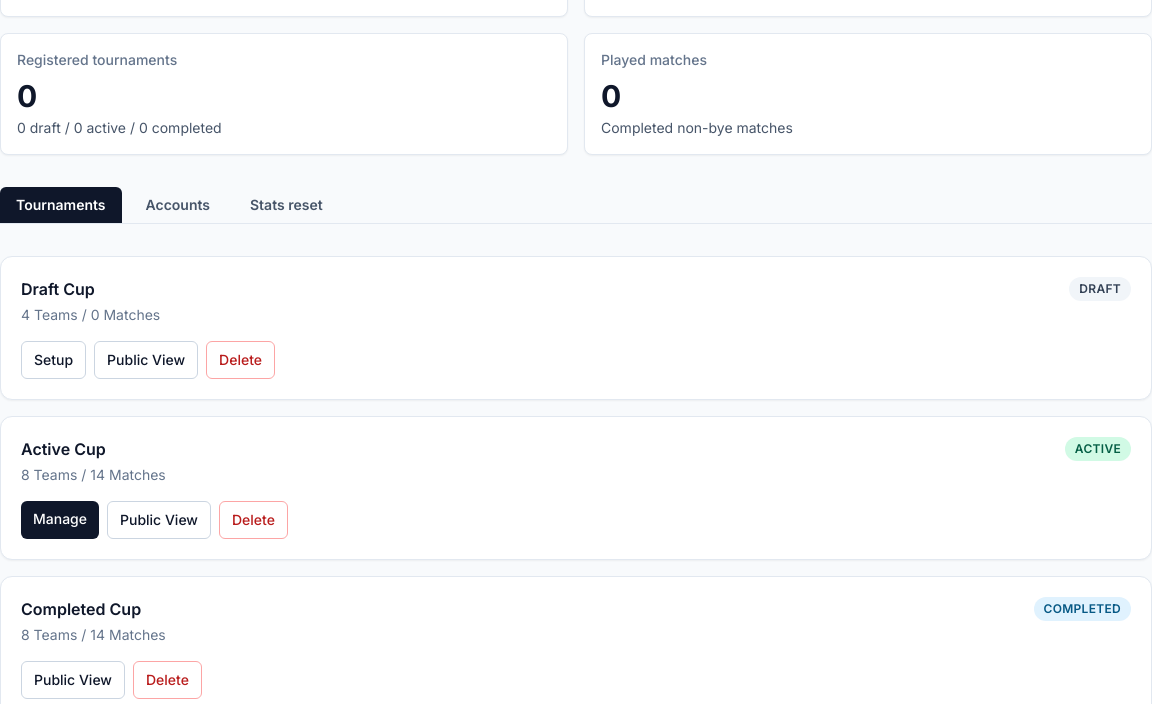
Test case: AdminDashboard › requires the exact tournament name before deleting an active tournament
The width and height of the screenshot is (1152, 704).
(page scrolled)
Click the button with aria-label "Delete Active Cup". click: x=253, y=520
box: [219,501,288,539]
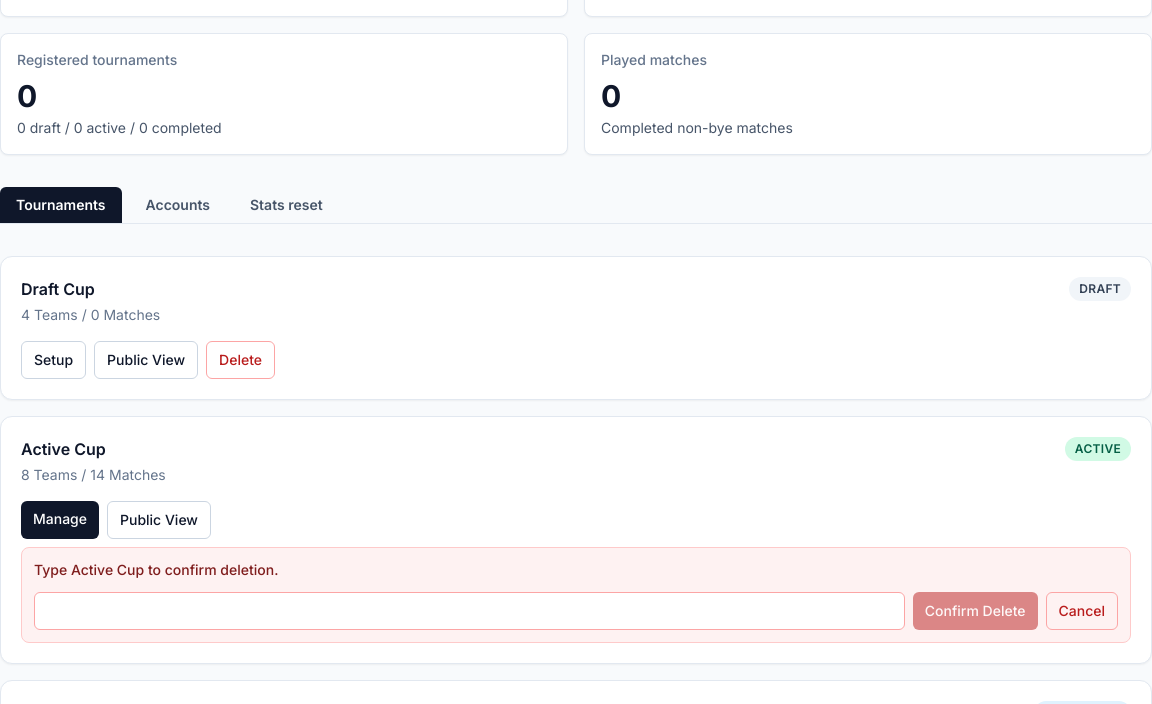
Expected: the text "Type Active Cup to confirm deletion." is shown, [34,561,278,578]
Expected: the button with aria-label "Confirm Delete Active Cup" is disabled, [913,592,1038,630]
Type "Active Cup" into the field named "Type Active Cup to confirm deletion". click: x=469, y=611
box: [34,592,905,630]
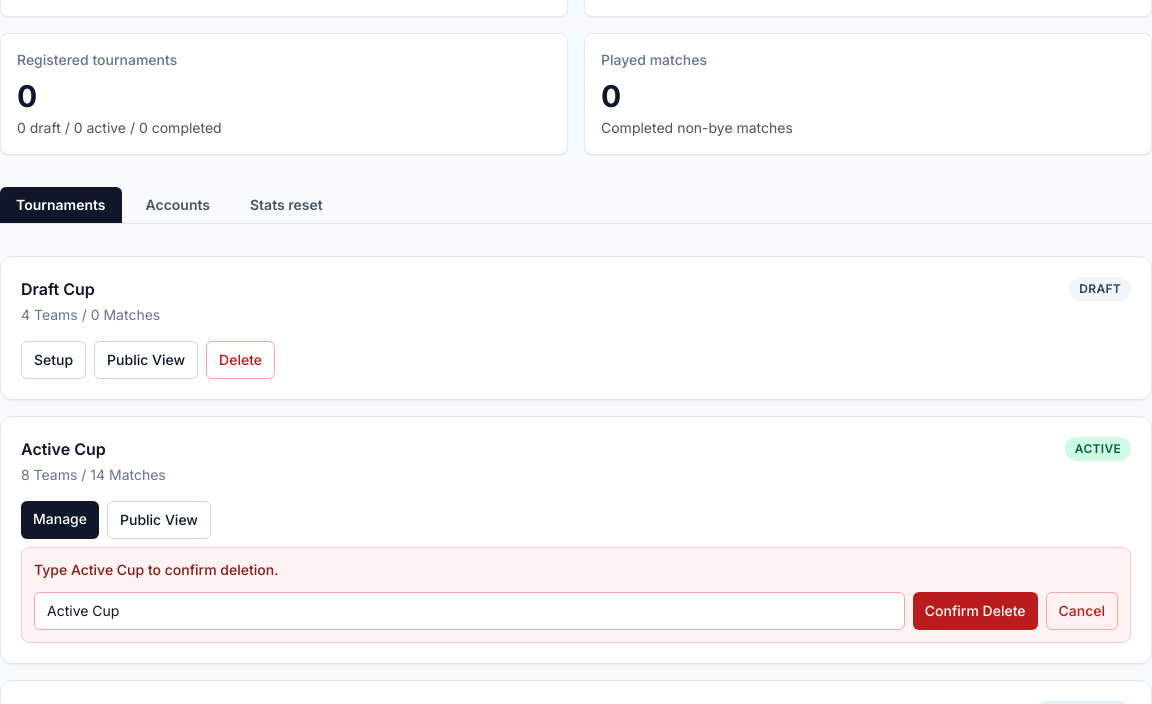
Click the button with aria-label "Confirm Delete Active Cup". click: x=975, y=611
box: [913,592,1038,630]
(page scrolled)
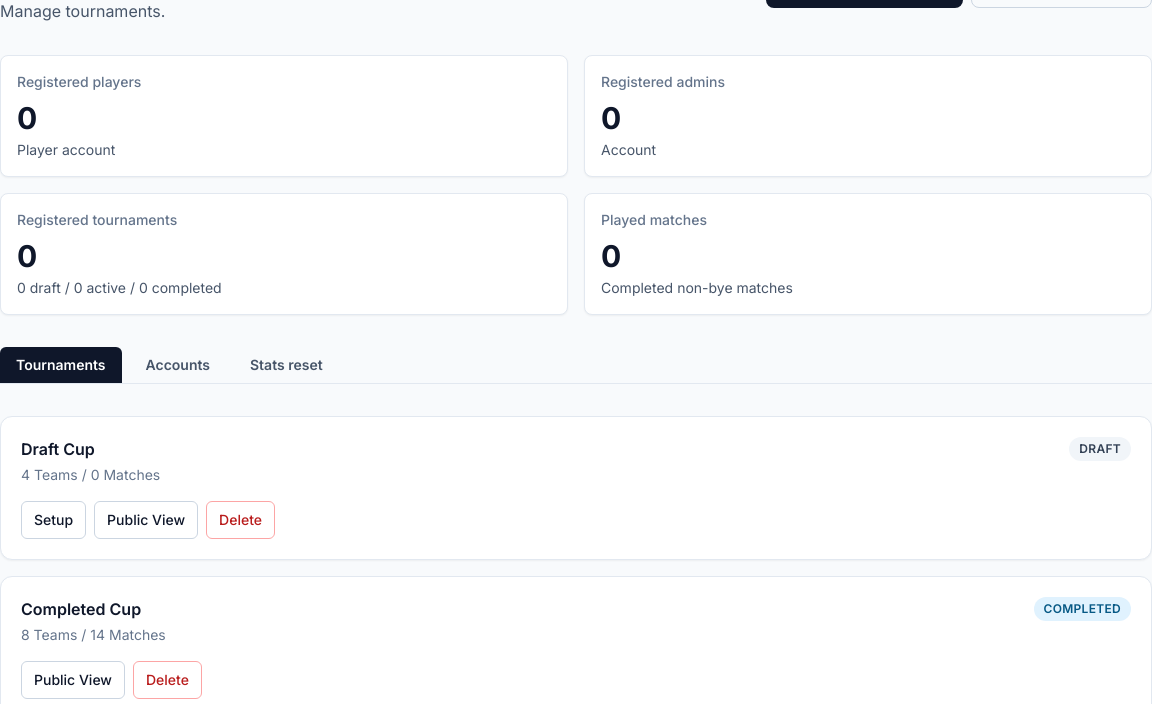
Expected: the heading "Active Cup" is gone
